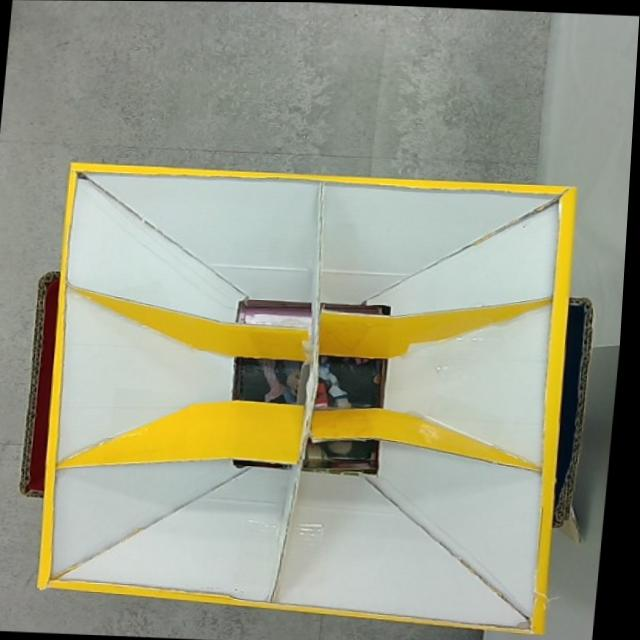box: (11, 161, 606, 636)
